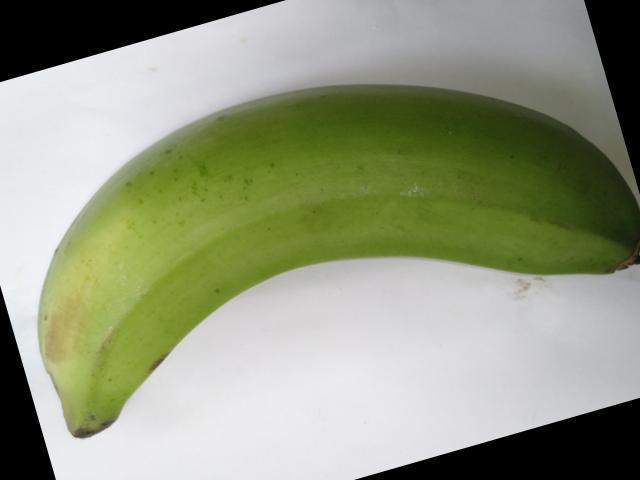freshunripe: (24, 66, 639, 445)
